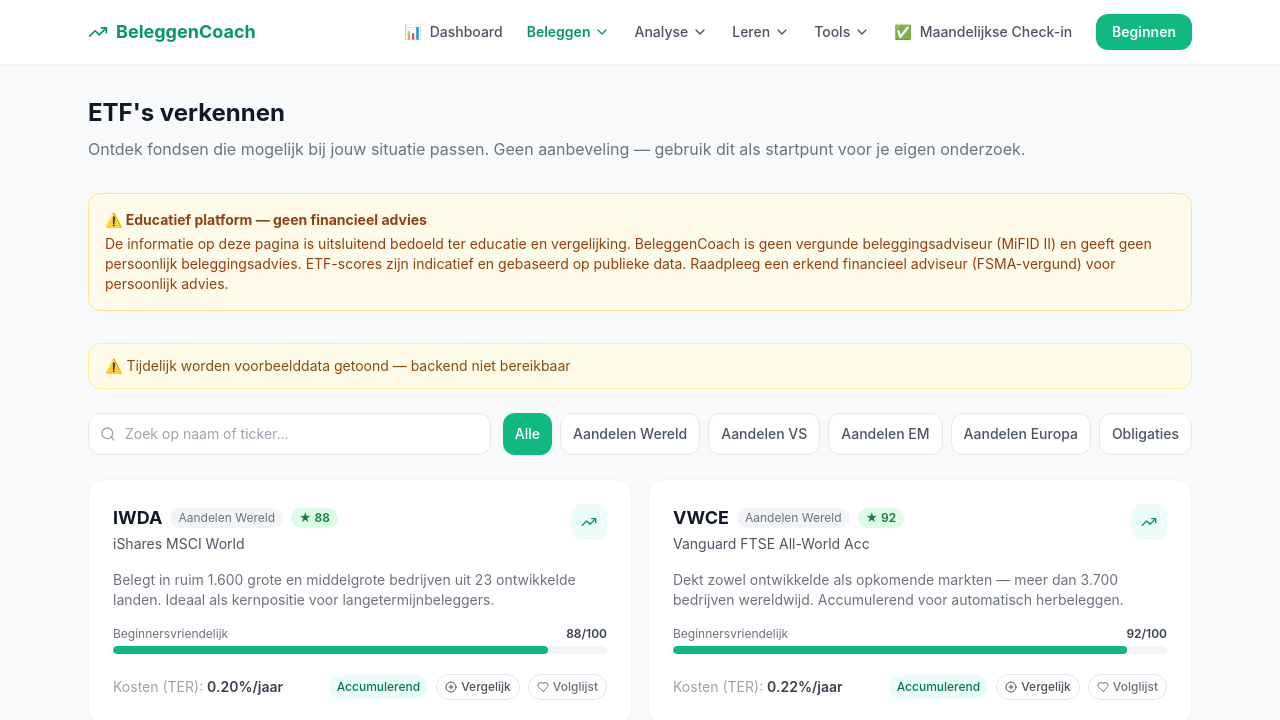
Test: ETF Explorer (/etfs) › Zoeken op naam of ticker › toont 'Geen ETF's gevonden' bij een ongeldige zoekopdracht
Type "XXXXXXXXXNOTEXIST" into the field with placeholder "Zoek op naam of ticker...".
click(290, 434); type("XXXXXXXXXNOTEXIST")  # box [88, 413, 491, 455]
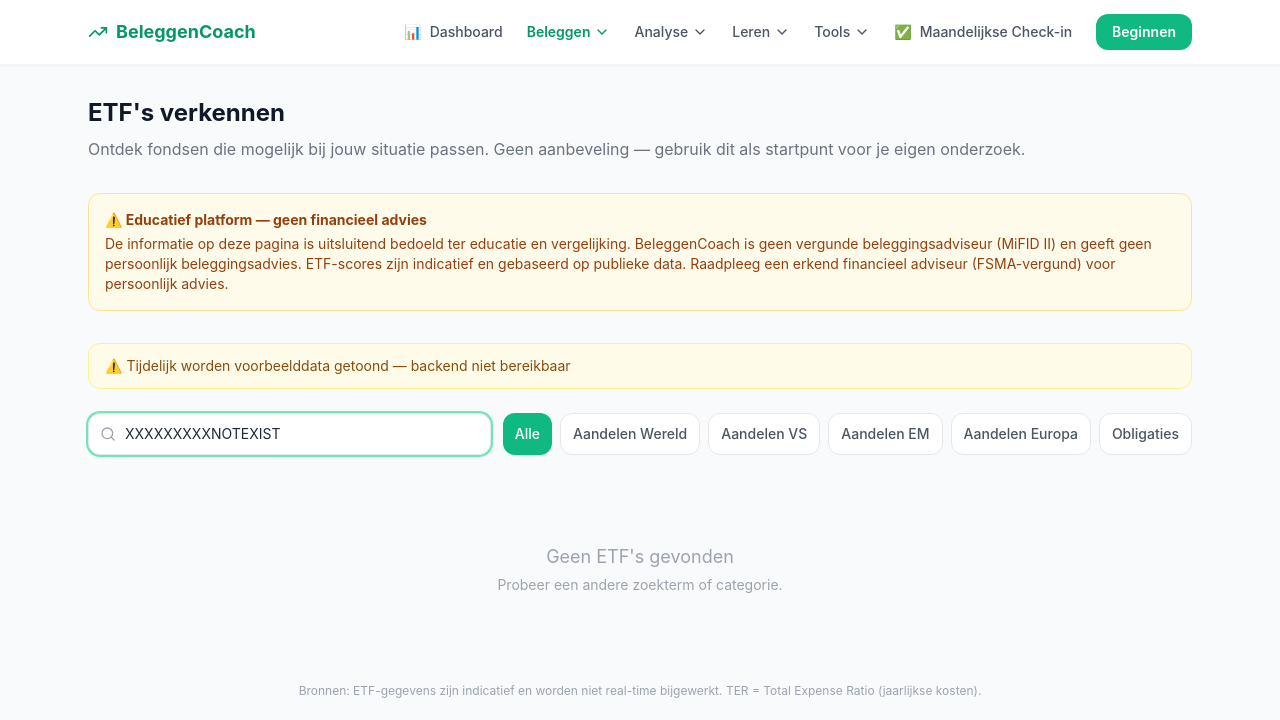
Check: the text "Geen ETF's gevonden" is shown, box [546, 546, 734, 567]
